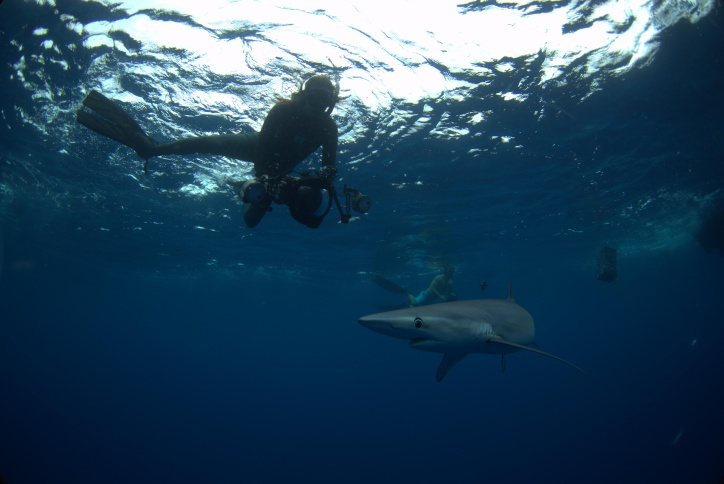Azul: (331, 257, 566, 425)
